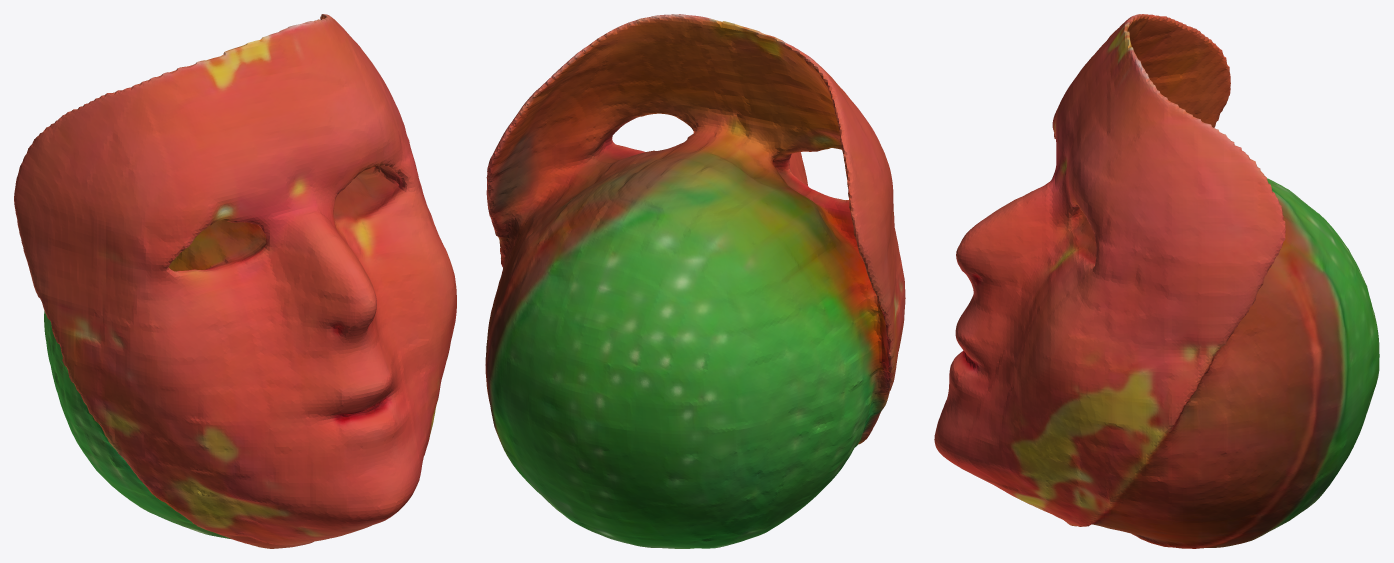
File: omesh_9.glb
3 views of the same model, side by side, from view 1: azimuth 30°, elevation 25°; view 2: azimuth 150°, elevation 25°; view 3: azimuth 270°, elevation 25° (orthographic). The views are drawn at different scales.
Parts seen in each view (by area): view 1: world; view 2: world; view 3: world.
Boxes of the visible parts, box(x1,y1,x2,y2) form: world: box(14, 14, 456, 548); world: box(485, 14, 905, 548); world: box(934, 14, 1379, 548).
Size of the model in its own units: 0.912 by 1.11 by 0.9396.
